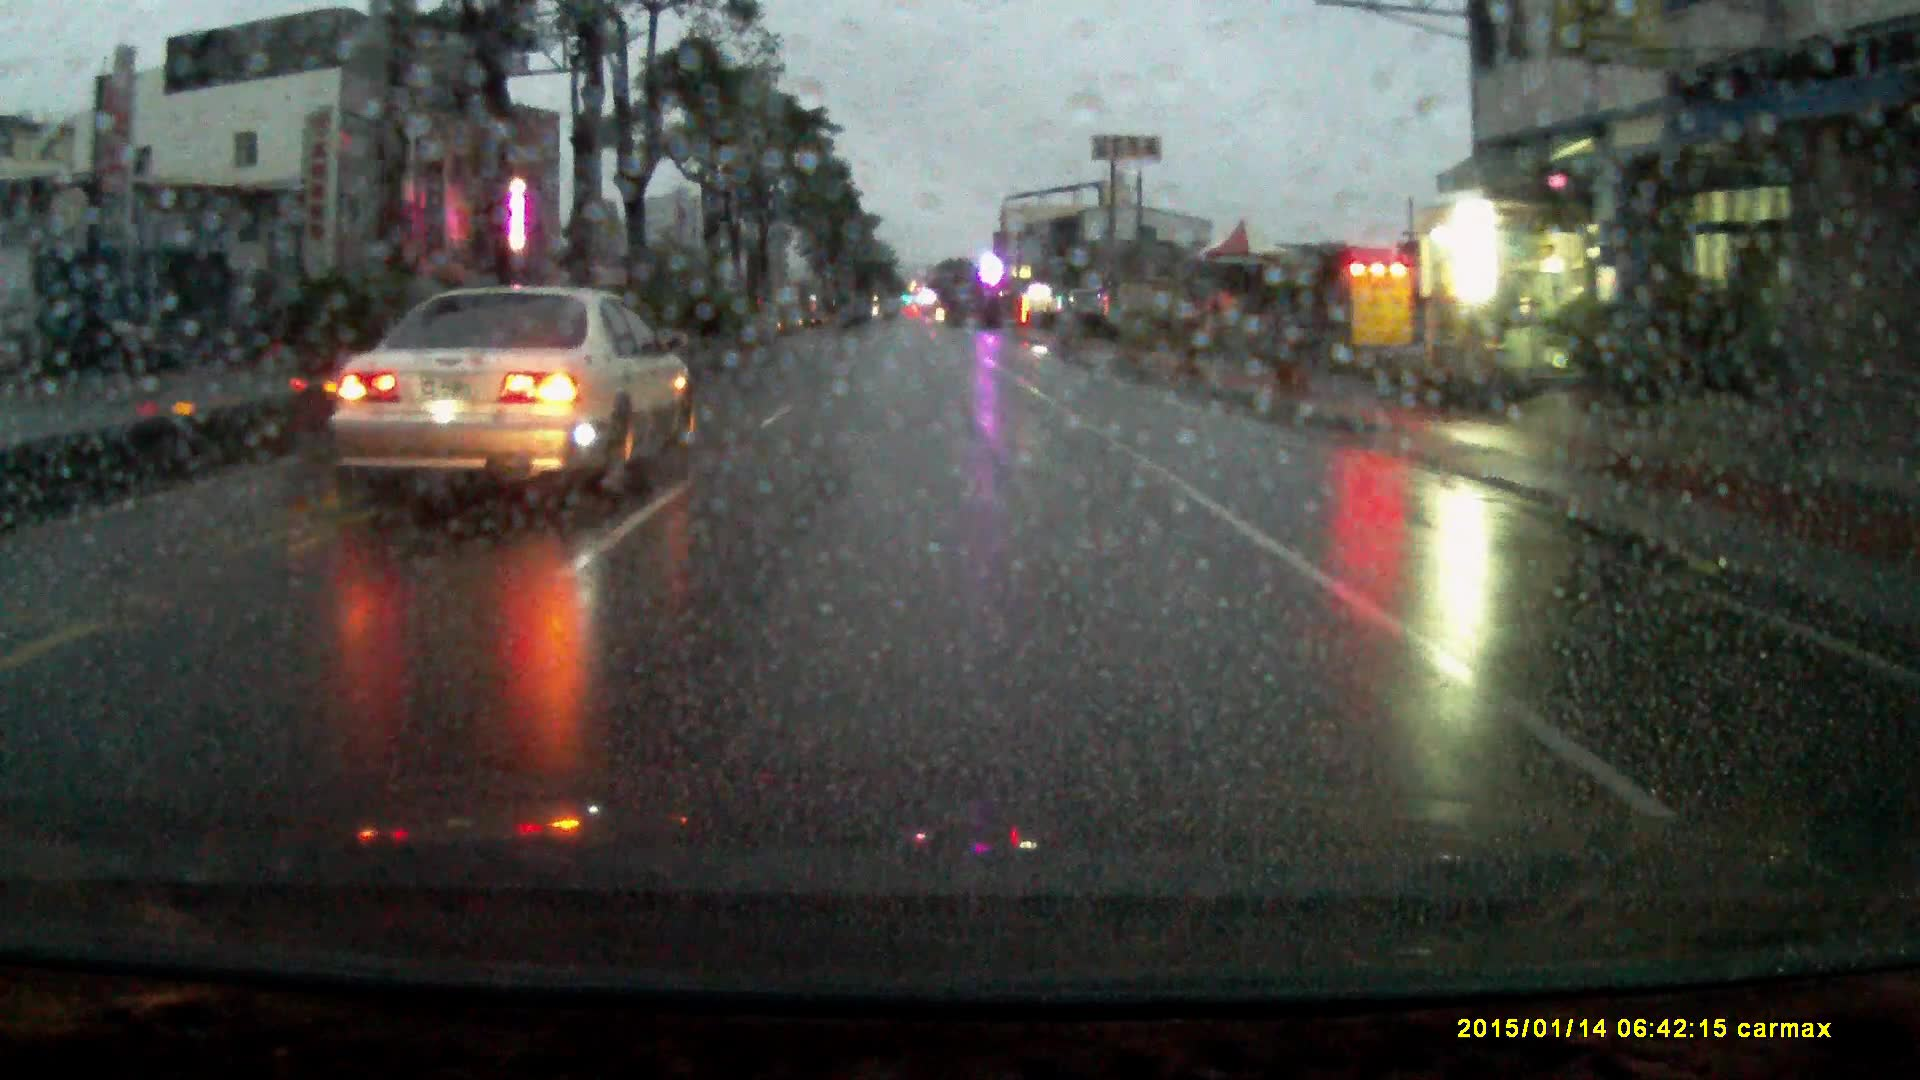vehicle: (320, 289, 698, 513)
